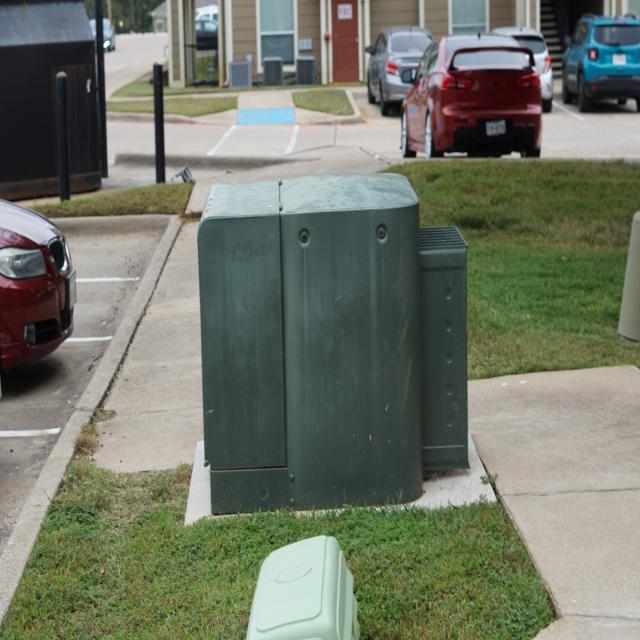Automobile: (366, 28, 553, 158), (0, 199, 76, 372), (561, 13, 640, 112)
Obstacle: (187, 173, 479, 518), (247, 536, 359, 640), (618, 212, 640, 340), (55, 71, 70, 200), (153, 63, 165, 183)
Road: (0, 216, 175, 554), (165, 87, 402, 162), (540, 100, 640, 161), (105, 33, 168, 102), (107, 110, 154, 164)
Sidewalk: (468, 365, 640, 640), (94, 221, 203, 472), (193, 89, 362, 125)
